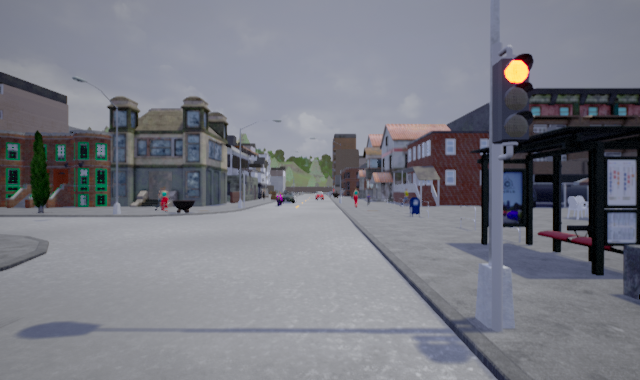motobike: (275, 192, 285, 210)
pedestrian: (157, 185, 171, 212), (351, 186, 361, 209)
vehicle: (276, 189, 295, 203)
